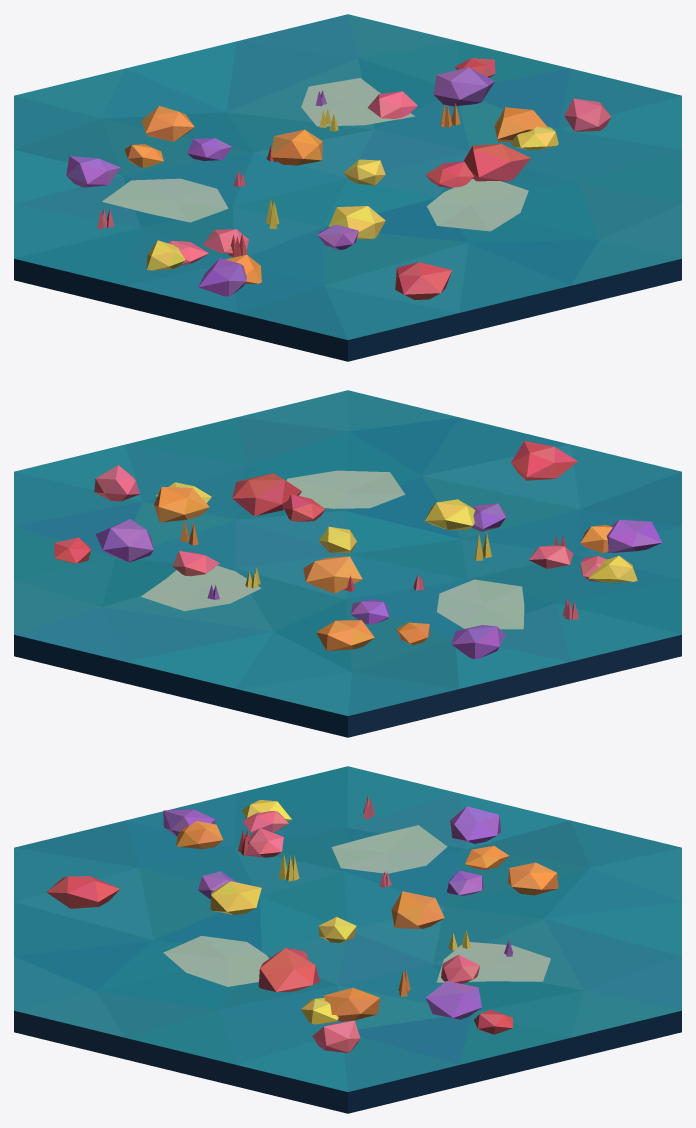
The model's file is Great Barrier Reef.glb.
3 renders of one model, top to bottom at view 1: azimuth 30°, elevation 25°; view 2: azimuth 150°, elevation 25°; view 3: azimuth 270°, elevation 25°, orthographic.
Visible parts, largest first — view 1: Great Barrier Reef; view 2: Great Barrier Reef; view 3: Great Barrier Reef.
Boxes of the visible parts, x1,y1,x2,y2 form: Great Barrier Reef: (14,14,681,361); Great Barrier Reef: (14,390,681,737); Great Barrier Reef: (14,766,681,1113).
Size of the model in its own units: 1.94 by 0.1361 by 1.68.
